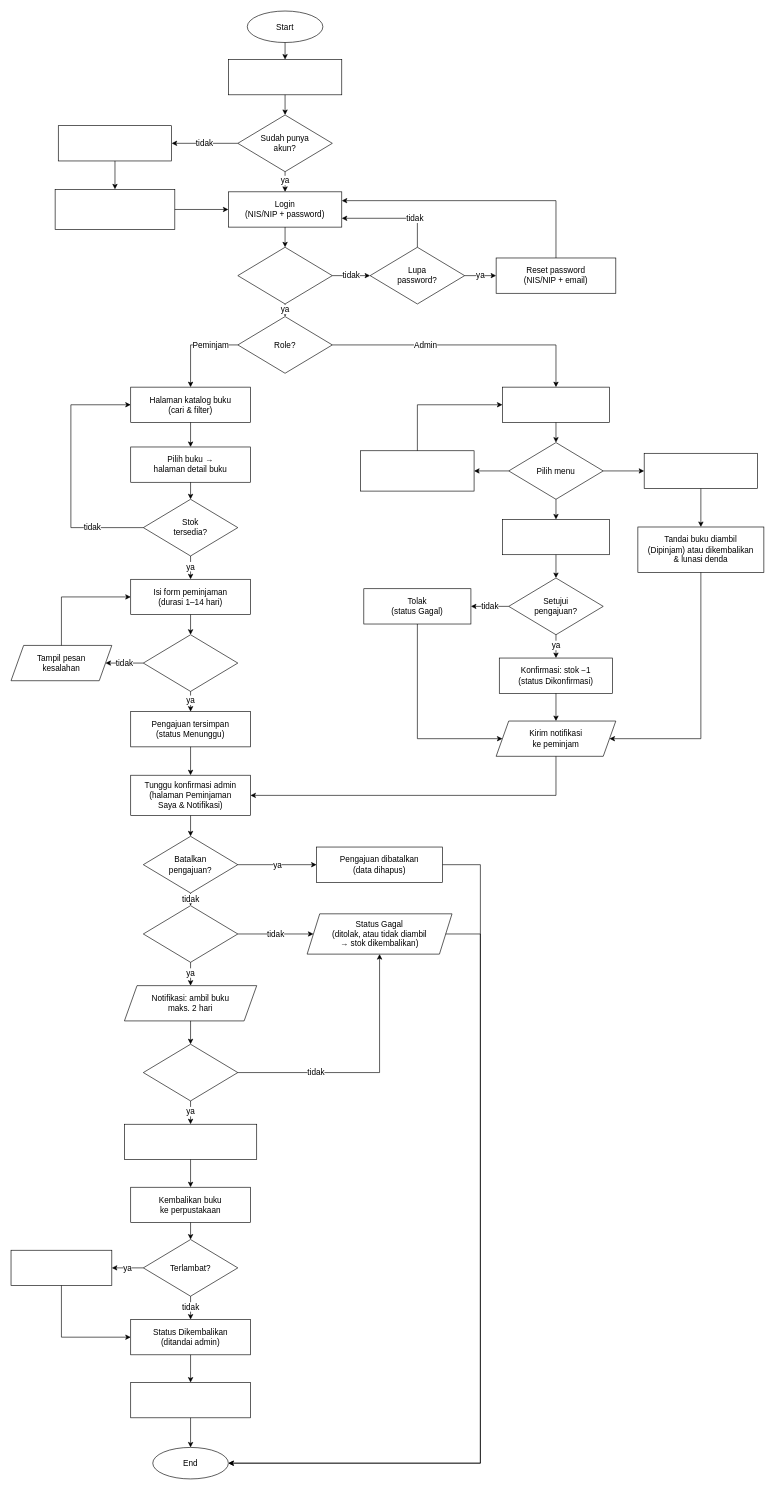
The diagram is 775 pixels wide and 1490 high, and some of its shapes have lost their labels. The centre of each missing label's shape, as x and y in pixels:
"Ambil buku di perpustakaan (admin menandai Dipinjam)" belongs at point 190,1142.
"Bayar denda Rp1.000/hari" belongs at point 61,1268.
"Berhasil login?" belongs at point 284,275.
"Beri ulasan & rating (opsional, kapan saja)" belongs at point 190,1400.
"Daftar sebagai Siswa / Tenaga Pendidik" belongs at point 115,143.
"Dashboard admin" belongs at point 556,404.
"Diambil dalam 2 hari?" belongs at point 190,1072.
"Disetujui?" belongs at point 190,933.
"Halaman perkenalan (landing page)" belongs at point 285,77.
"Halaman Request Masuk" belongs at point 556,537.
"Halaman Riwayat Peminjaman" belongs at point 701,471.
"Isi data diri (NIS/NIP, kelas/jabatan, no. telepon, password)" belongs at point 114,209.
"Kelola buku, kategori, penulis, ulasan & akun admin" belongs at point 417,470.
"Sesuai aturan peminjaman?" belongs at point 190,662.
